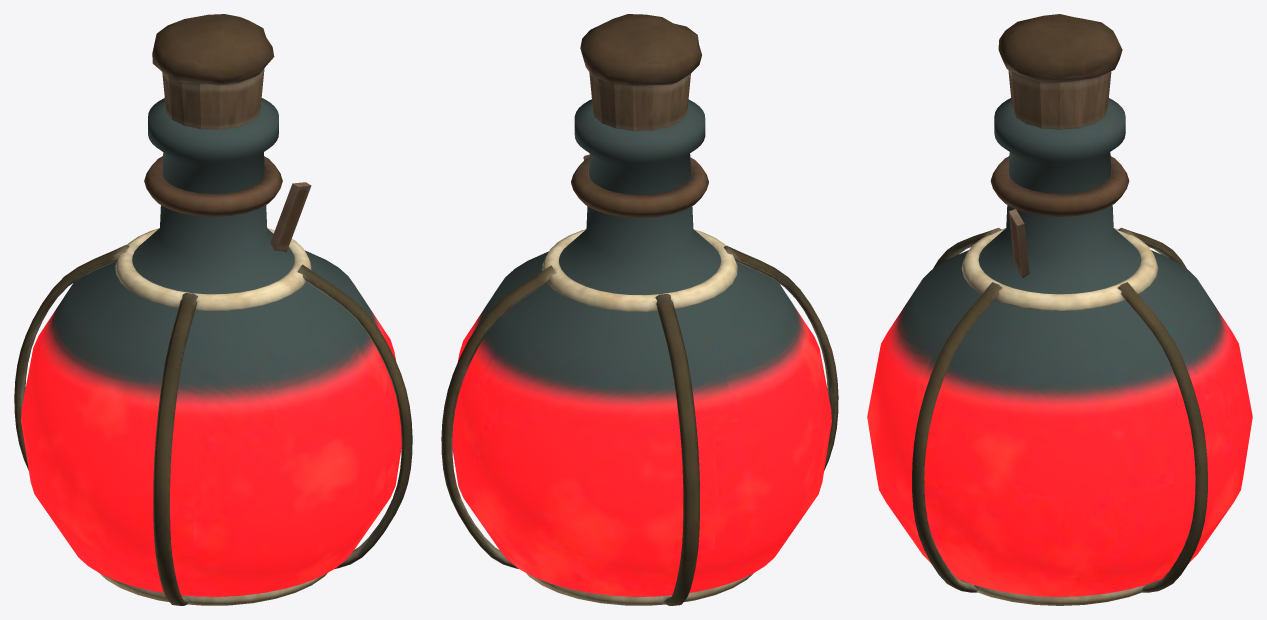
File: potion.glb
The picture shows the model from 3 angles, left to right: view 1: azimuth 30°, elevation 25°; view 2: azimuth 150°, elevation 25°; view 3: azimuth 270°, elevation 25°; orthographic projection.
Visible parts, largest first — view 1: potion; view 2: potion; view 3: potion.
Boxes of the visible parts, box(x1,y1,x2,y2) form: potion: box(14, 14, 412, 605); potion: box(441, 14, 838, 605); potion: box(867, 14, 1252, 605).
Bounding box in the file's own units: 0.2 × 0.3065 × 0.2.
Materials: 1 (1 with a texture image).
